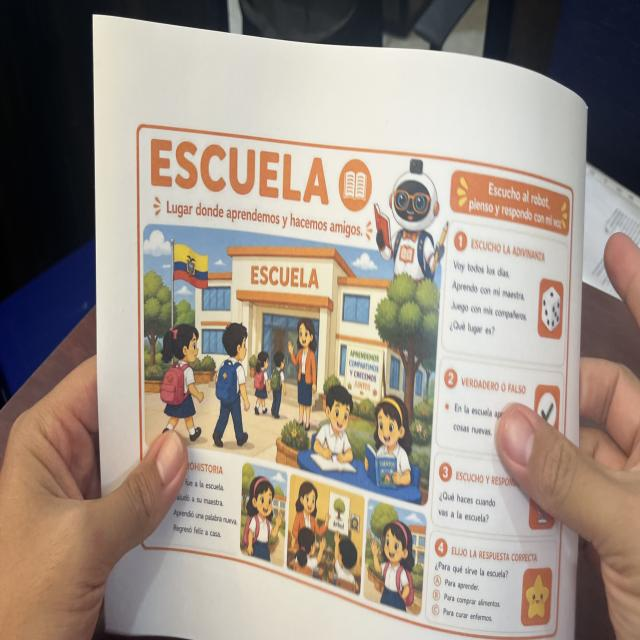escuela: (134, 118, 577, 640)
